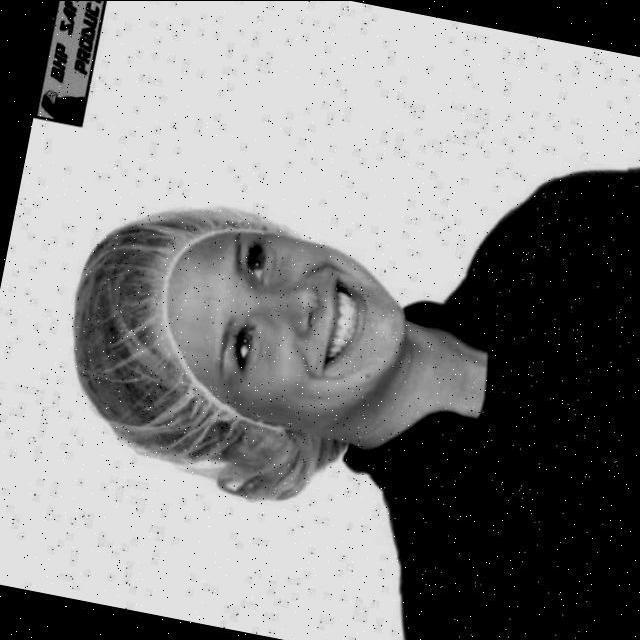no_hairnet: (285, 280, 388, 390)
